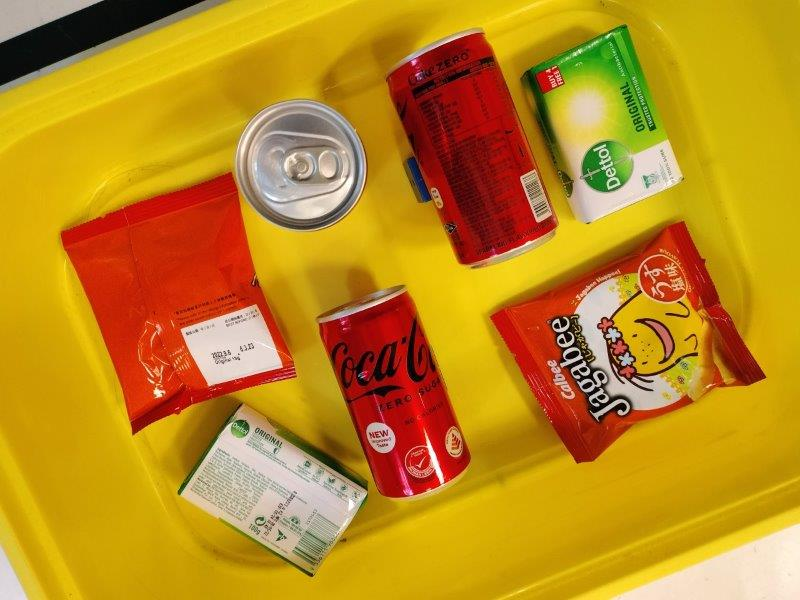Coke: (385, 26, 561, 270), (316, 283, 472, 498), (234, 100, 367, 230)
Dettol: (176, 404, 368, 576), (521, 25, 683, 223)
Jagabee: (490, 223, 771, 464), (60, 173, 297, 433)
